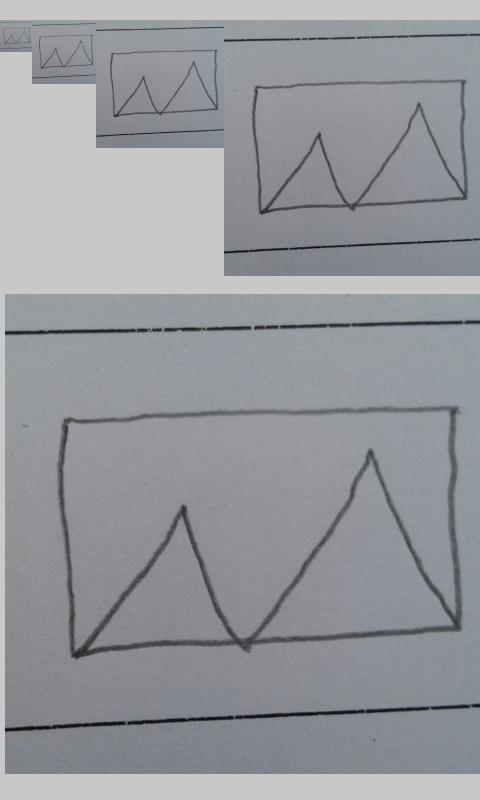image_view: (51, 403, 464, 661), (250, 78, 469, 215), (109, 49, 218, 117), (38, 33, 94, 69), (2, 26, 31, 45)
